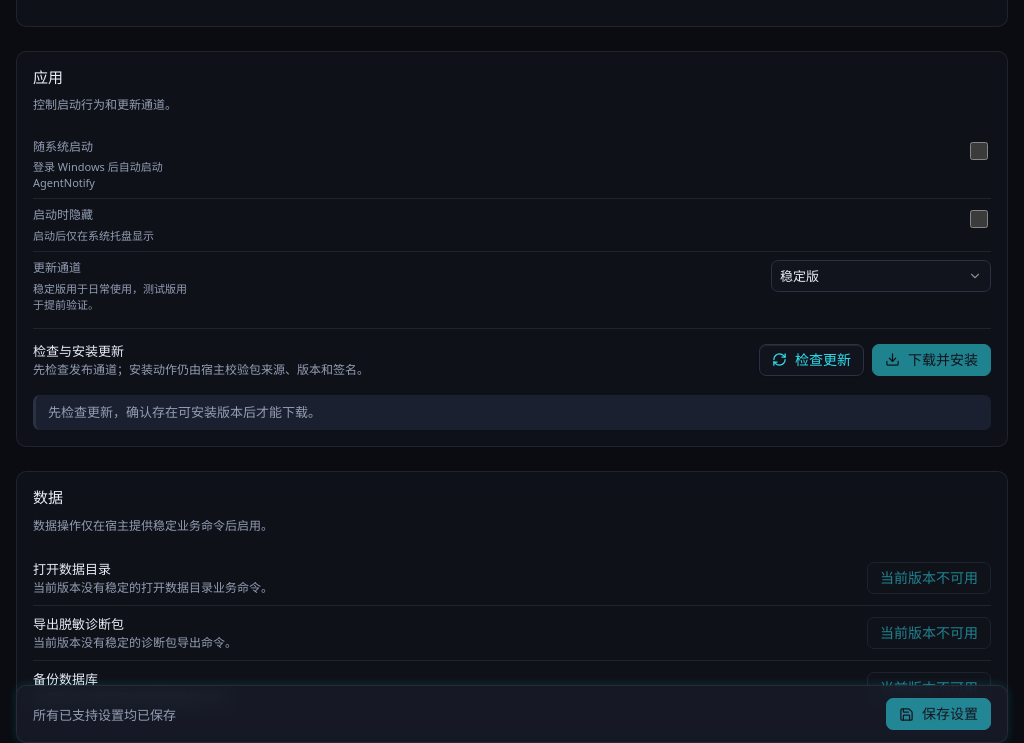
Scenario: SettingsPage › 安装命令不再返回（应用正在退出）时只保留自动重启提示，不显示失败
(page scrolled)
Click the button "检查更新".
click(812, 360)  # box [759,344,864,376]
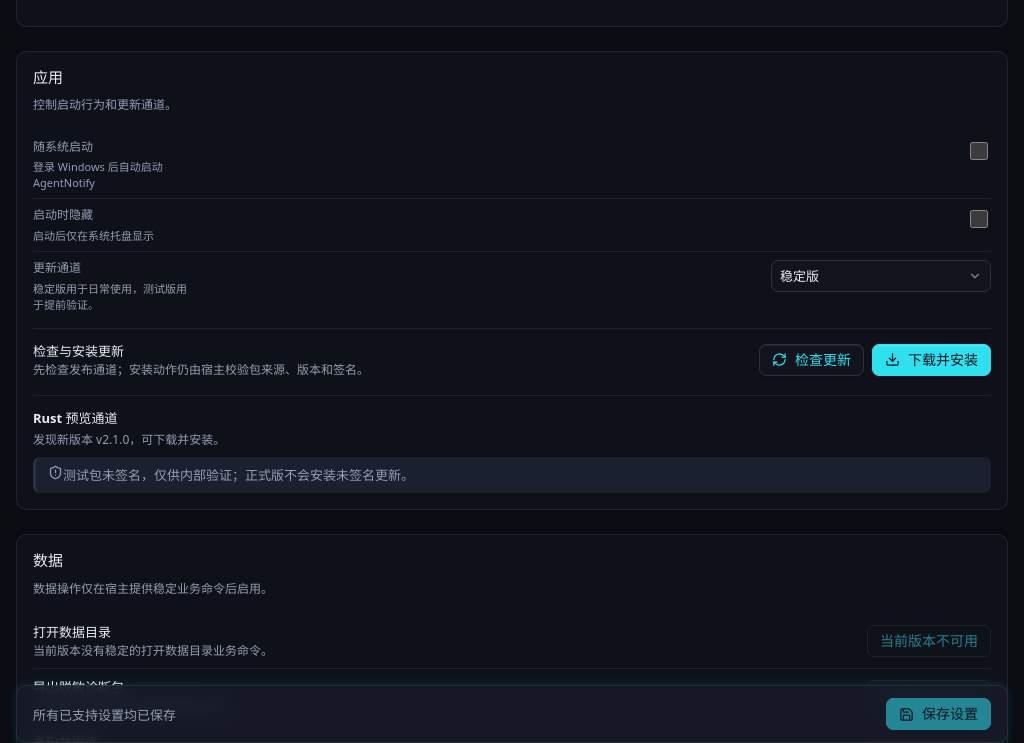
Result: the text "发现新版本 v2.1.0，可下载并安装。" is shown at [33,431,225,448]
Click the button "下载并安装".
click(932, 360)  # box [872,344,991,376]
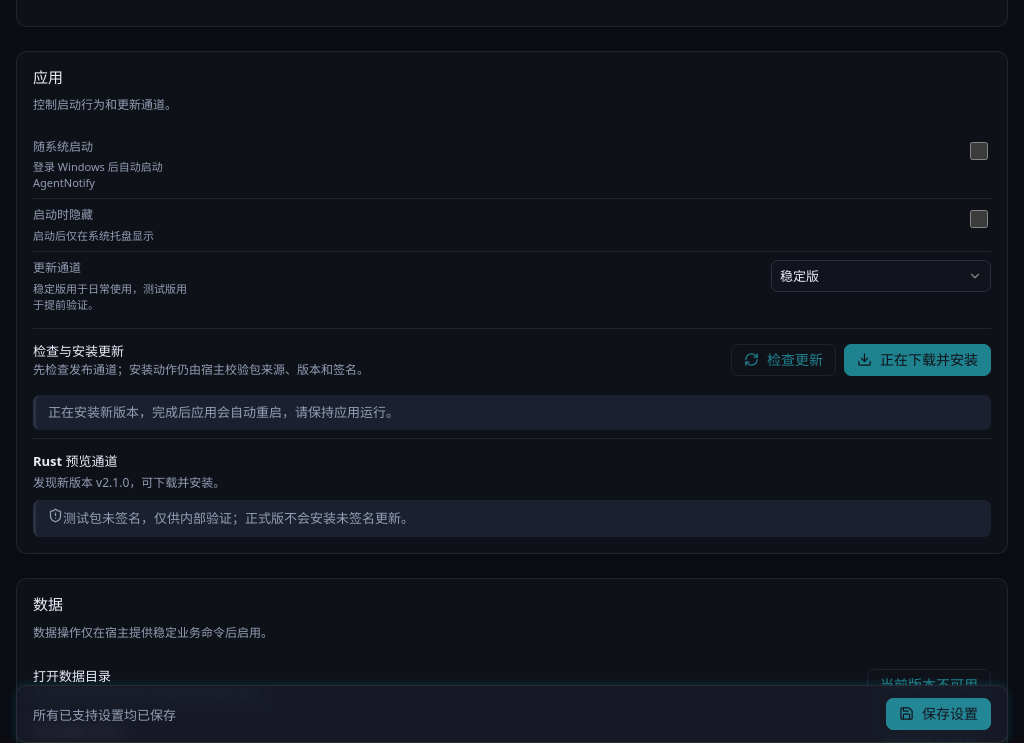
Result: the text "正在安装新版本，完成后应用会自动重启，请保持应用运行。" is shown at [33,395,991,430]
Result: the button "正在下载并安装" is disabled at [844,344,991,376]
